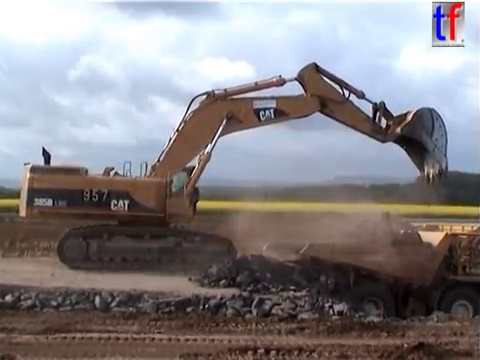excavator: (15, 58, 453, 276)
truck: (260, 220, 480, 342)
